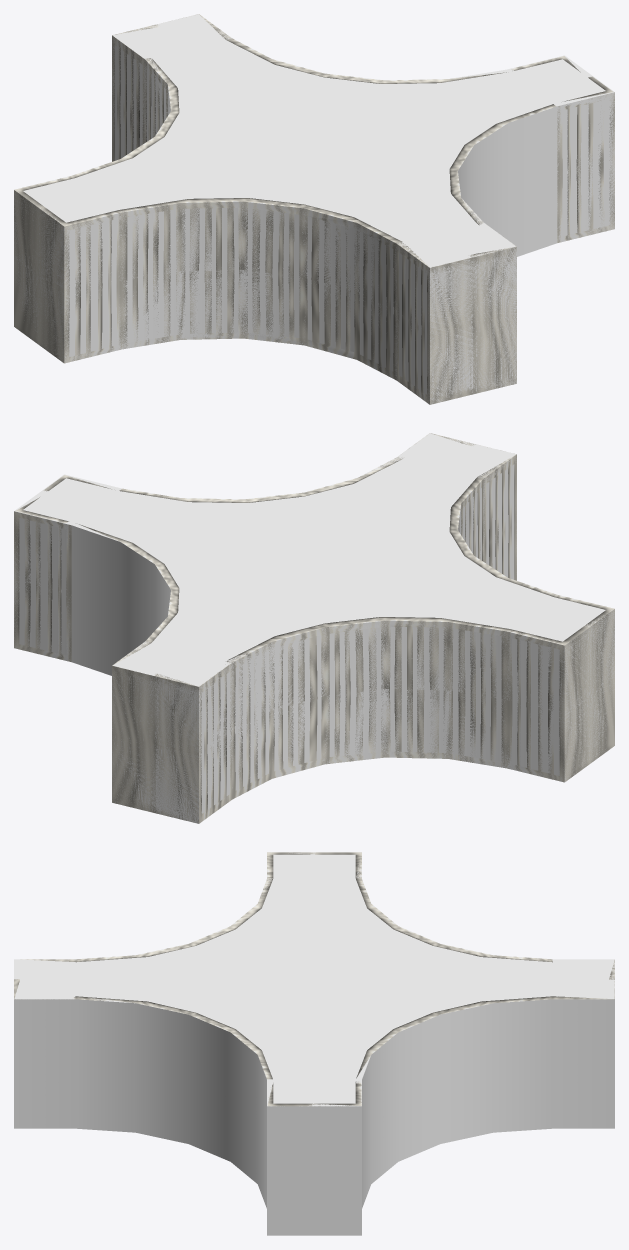
3 renders of one model, top to bottom at view 1: azimuth 30°, elevation 25°; view 2: azimuth 150°, elevation 25°; view 3: azimuth 270°, elevation 25°, orthographic. The views are drawn at different scales.
Visible parts, largest first — view 1: object4aura, object4detail; view 2: object4aura, object4detail; view 3: object4aura, object4detail.
Part boxes in pixels (x1,y1,x2,y2): object4aura: (14,14,614,404); object4detail: (14,14,614,404); object4aura: (14,433,614,823); object4detail: (14,433,614,823); object4aura: (14,852,614,1235); object4detail: (14,852,614,1106).
Bounding box in the file's own units: 59.26 × 14.08 × 59.26.
Materials: 2 (2 with a texture image).
